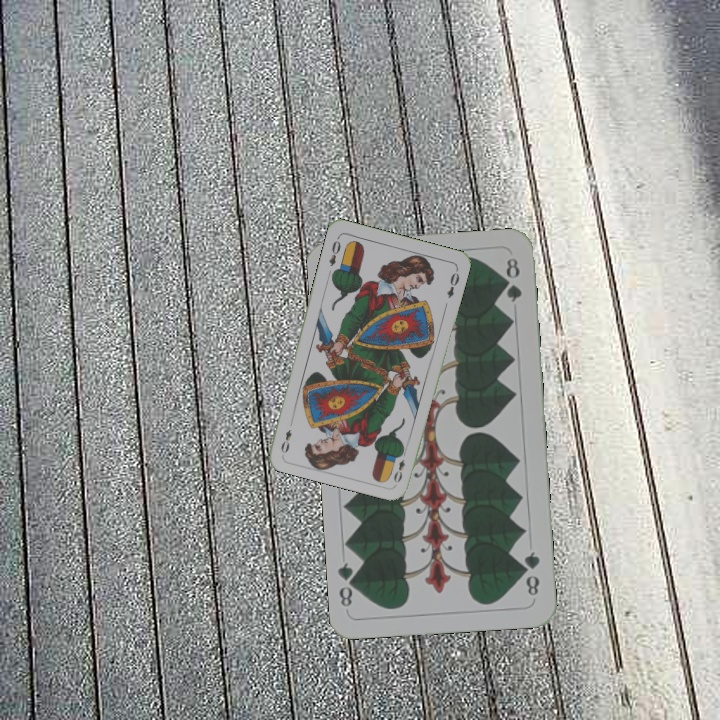EO: (390, 446, 409, 485), (325, 233, 343, 269)
G8: (519, 547, 543, 599)
